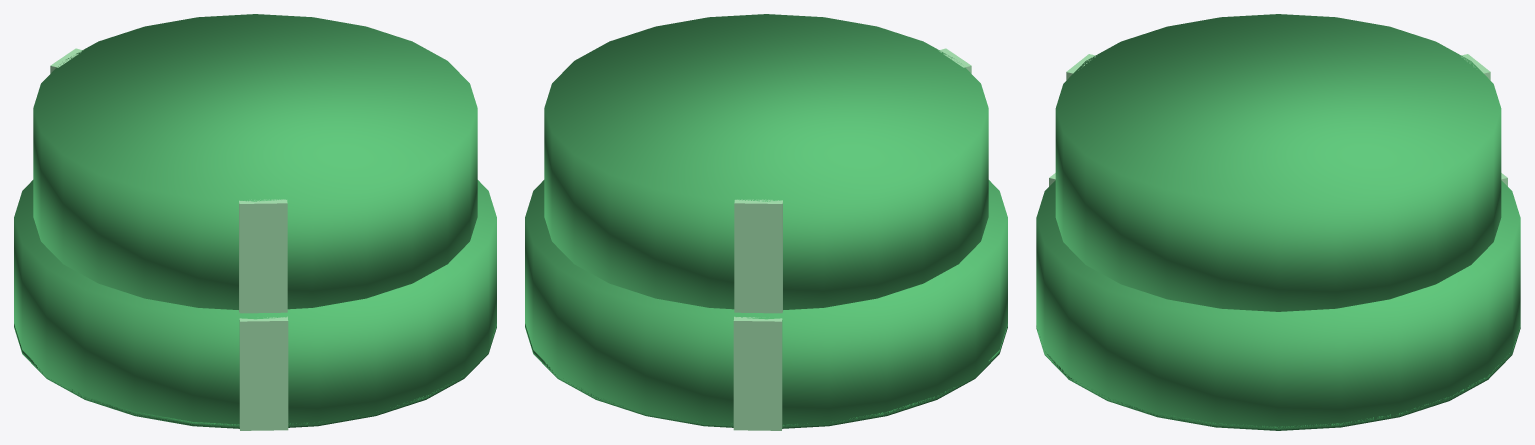
The model's file is pipe_hang.gltf.
3 renders of one model, left to right at view 1: azimuth 30°, elevation 25°; view 2: azimuth 150°, elevation 25°; view 3: azimuth 270°, elevation 25°, orthographic.
Visible parts, largest first — view 1: pipe_hang; view 2: pipe_hang; view 3: pipe_hang.
Boxes of the visible parts, x1,y1,x2,y2 form: pipe_hang: [14, 14, 496, 430]; pipe_hang: [525, 14, 1007, 430]; pipe_hang: [1036, 14, 1520, 430].
Size of the model in its own units: 2 by 1.01 by 2.
